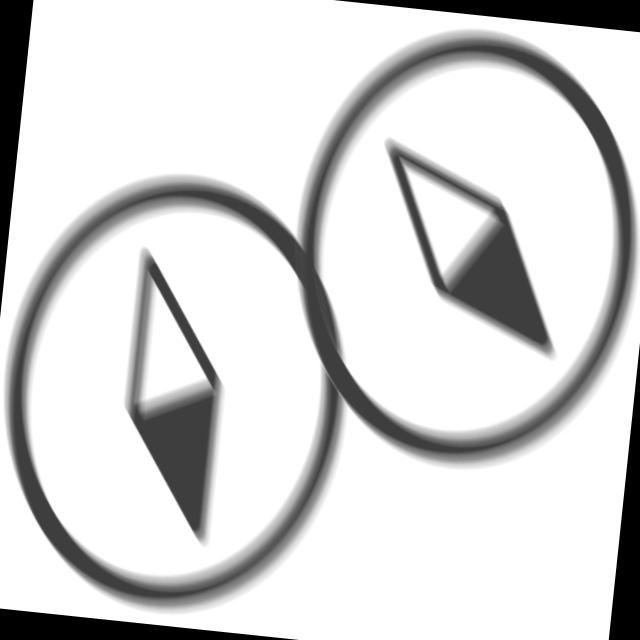compass: (265, 5, 640, 495), (1, 147, 377, 633)
